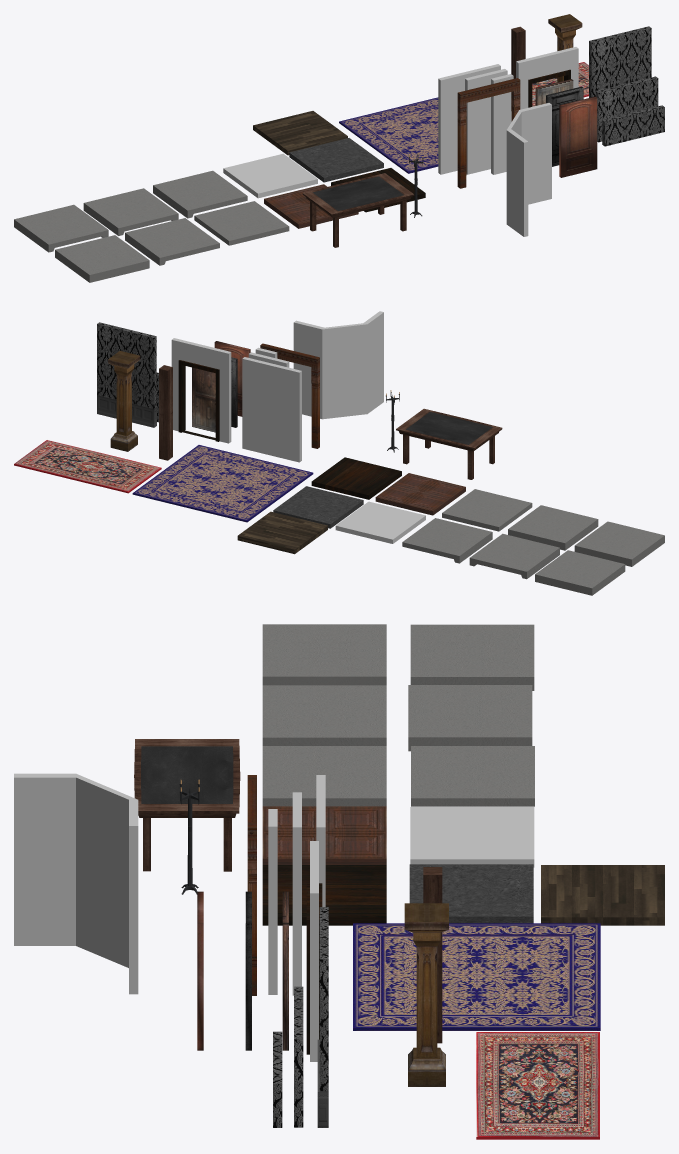
Rendered from Full Tileset.fbx.
3 renders of one model, top to bottom at view 1: azimuth 30°, elevation 25°; view 2: azimuth 150°, elevation 25°; view 3: azimuth 270°, elevation 25°, orthographic. The views are drawn at different scales.
Parts seen in each view (by area): view 1: WoodWall1.003, Rug1, Table, WoodWall2, Door.002, Ceiling02.004, Ceiling02.003, Ceiling02.005, Ceiling02.001, Ceiling02.002, Ceiling02, ConcreteFloor (+16 smaller); view 2: Rug1, WoodWall1.003, WoodWall1, WoodWall2, Rug2, Doorway, Table, Ceiling02.005, Ceiling02.004, Ceiling02.001, Ceiling02.003, Ceiling02.002 (+12 smaller); view 3: Rug1, WoodWall1.003, Rug2, Table, Ceiling02.004, Ceiling02.003, Ceiling02.005, Ceiling02.001, Ceiling02.002, WoodFloor2, ConcreteFloor2, Ceiling02 (+17 smaller).
Part boxes in pixels (x1=…): WoodWall1.003: x1=506, y1=103, x2=551, y2=236; Rug1: x1=339, y1=97, x2=438, y2=173; Table: x1=302, y1=173, x2=414, y2=247; WoodWall2: x1=589, y1=26, x2=651, y2=97; Door.002: x1=559, y1=96, x2=597, y2=177; Ceiling02.004: x1=55, y1=235, x2=149, y2=282; Ceiling02.003: x1=83, y1=188, x2=178, y2=235; Ceiling02.005: x1=14, y1=204, x2=108, y2=252; Ceiling02.001: x1=125, y1=218, x2=219, y2=265; Ceiling02.002: x1=153, y1=170, x2=247, y2=218; Ceiling02: x1=194, y1=201, x2=289, y2=245; ConcreteFloor: x1=289, y1=138, x2=383, y2=182; Rug1: x1=132, y1=445, x2=313, y2=522; WoodWall1.003: x1=293, y1=311, x2=383, y2=419; WoodWall1: x1=242, y1=357, x2=301, y2=462; WoodWall2: x1=97, y1=322, x2=156, y2=427; Rug2: x1=14, y1=440, x2=161, y2=493; Doorway: x1=171, y1=338, x2=231, y2=443; Table: x1=396, y1=408, x2=502, y2=479; Ceiling02.005: x1=535, y1=550, x2=625, y2=595; Ceiling02.004: x1=574, y1=521, x2=664, y2=566; Ceiling02.001: x1=508, y1=505, x2=598, y2=550; Ceiling02.003: x1=469, y1=533, x2=559, y2=579; Ceiling02.002: x1=402, y1=518, x2=492, y2=563; Rug1: x1=353, y1=923, x2=600, y2=1030; WoodWall1.003: x1=14, y1=773, x2=138, y2=994; Rug2: x1=476, y1=1032, x2=599, y2=1139; Table: x1=134, y1=739, x2=240, y2=871; Ceiling02.004: x1=262, y1=624, x2=386, y2=685; Ceiling02.003: x1=408, y1=685, x2=532, y2=751; Ceiling02.005: x1=410, y1=624, x2=534, y2=690; Ceiling02.001: x1=262, y1=685, x2=386, y2=745; Ceiling02.002: x1=411, y1=746, x2=534, y2=806; WoodFloor2: x1=541, y1=865, x2=664, y2=925; ConcreteFloor2: x1=410, y1=807, x2=534, y2=867; Ceiling02: x1=262, y1=746, x2=386, y2=806.
Bounding box in the file's own units: 1960 × 1051 × 325.
